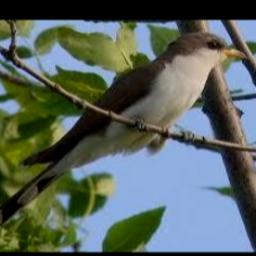Cuckoo: (0, 33, 247, 242)
